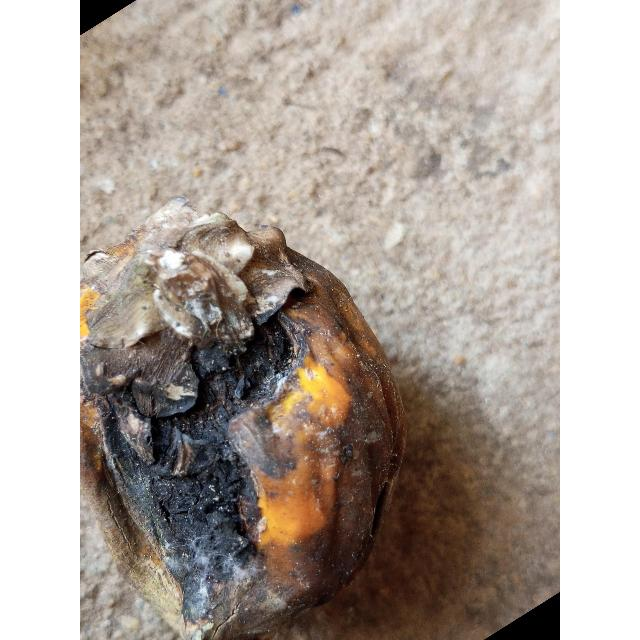damaged: (80, 199, 405, 640)
